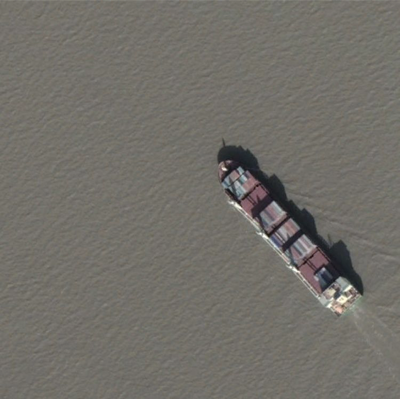boat: (216, 153, 365, 322)
